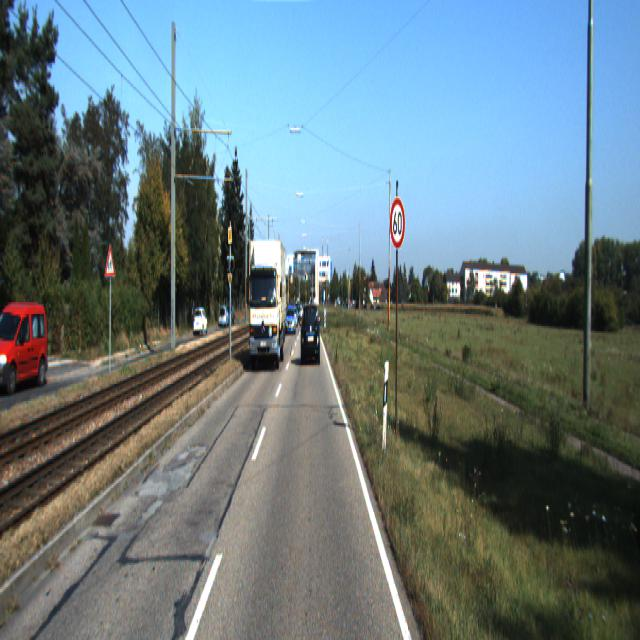Car: (249, 232, 287, 376), (0, 298, 49, 398), (301, 301, 320, 366), (193, 308, 208, 339), (285, 304, 296, 338)
